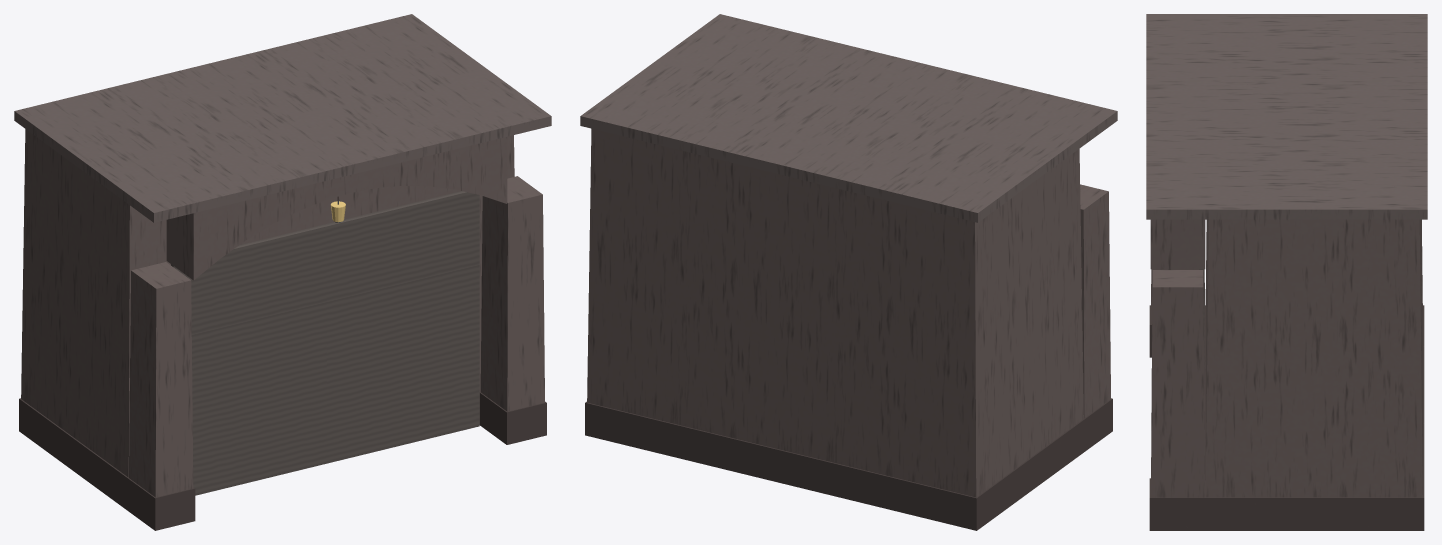
The model's file is SM_Souq_Stall_W5D30H38.fbx.
3 renders of one model, left to right at view 1: azimuth 30°, elevation 25°; view 2: azimuth 150°, elevation 25°; view 3: azimuth 270°, elevation 25°, orthographic.
Parts seen in each view (by area): view 1: SM_Souq_Stall_W5D30H38; view 2: SM_Souq_Stall_W5D30H38; view 3: SM_Souq_Stall_W5D30H38.
Boxes of the visible parts, x1=… form: SM_Souq_Stall_W5D30H38: x1=14, y1=14, x2=551, y2=530; SM_Souq_Stall_W5D30H38: x1=580, y1=14, x2=1117, y2=530; SM_Souq_Stall_W5D30H38: x1=1146, y1=14, x2=1427, y2=530.
Bounding box in the file's own units: 510 × 392 × 310.
Materials: 6 (6 with a texture image).
